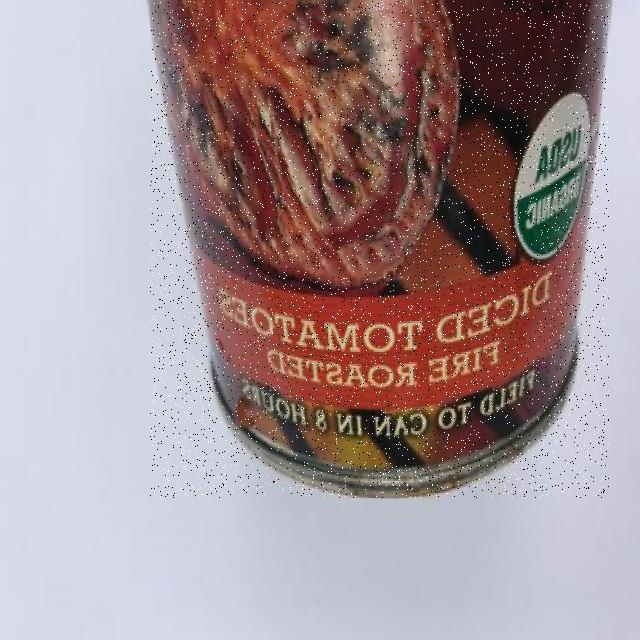metal: (151, 1, 609, 497)
